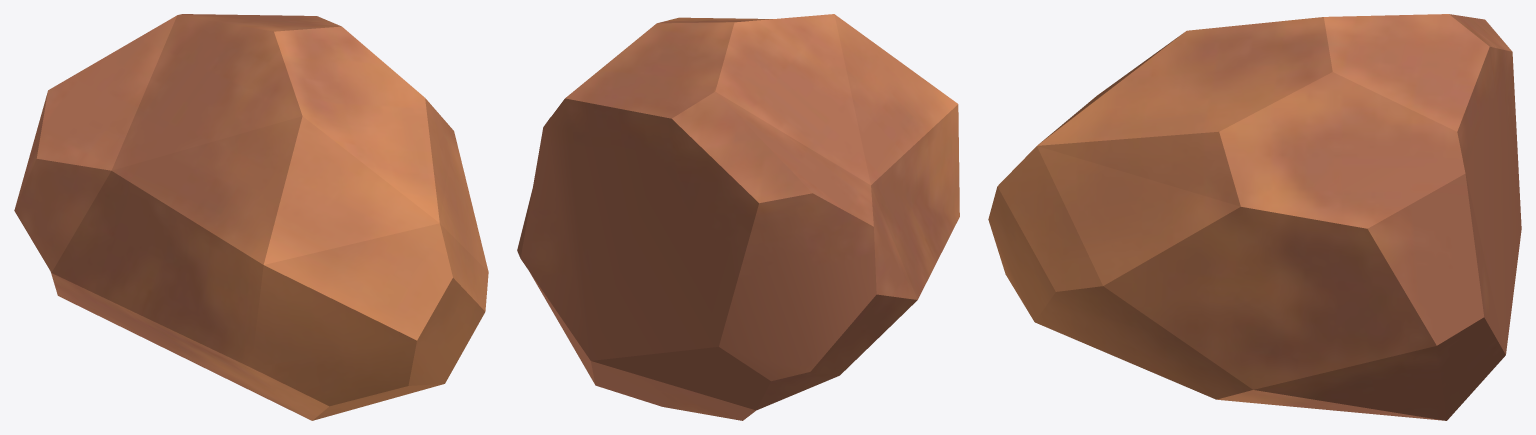
Rendered from Rock_7.gltf.
3 views of the same model, side by side, from view 1: azimuth 30°, elevation 25°; view 2: azimuth 150°, elevation 25°; view 3: azimuth 270°, elevation 25° (orthographic). The views are drawn at different scales.
Parts seen in each view (by area): view 1: Rock_7; view 2: Rock_7; view 3: Rock_7.
Boxes of the visible parts, <box> form: Rock_7: <box>14,14,488,420</box>; Rock_7: <box>517,14,959,420</box>; Rock_7: <box>988,14,1521,420</box>.
Size of the model in its own units: 5.5 by 5.11 by 6.48.
Materials: 1 (1 with a texture image).
